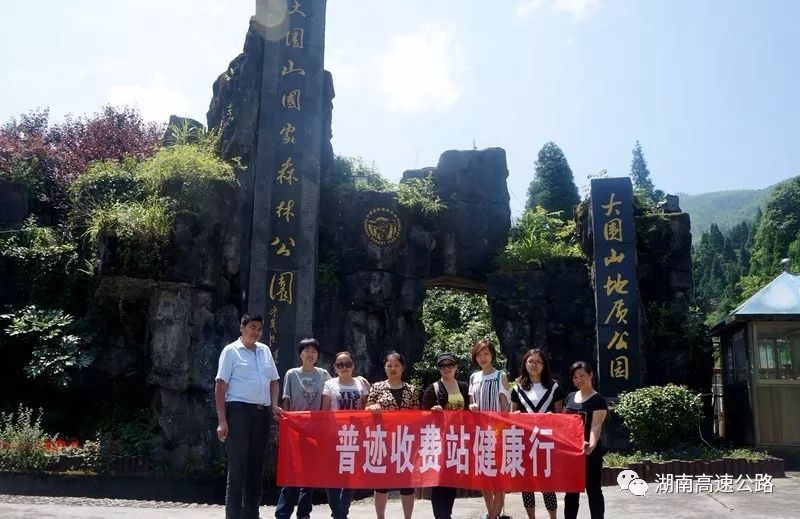other: (215, 302, 287, 513), (554, 344, 621, 514), (508, 339, 572, 513), (415, 341, 477, 519), (318, 330, 376, 513)
